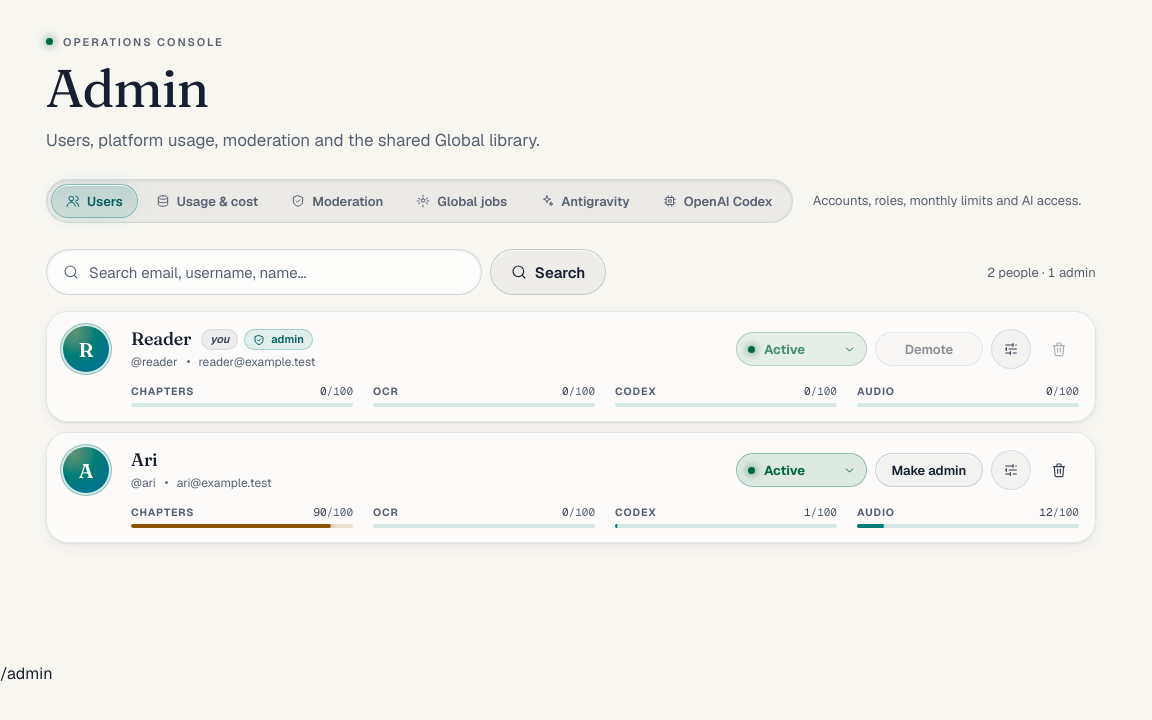
Test: Admin console › changes status at once but asks before a ban
This screenshot has width=1152, height=720.
Select "suspended" in the dropdown named "Account status for @ari" at x=801, y=470, box x1=736 y1=453 x2=867 y2=487
Select "banned" in the dropdown named "Account status for @ari" at x=801, y=470, box x1=736 y1=453 x2=867 y2=487
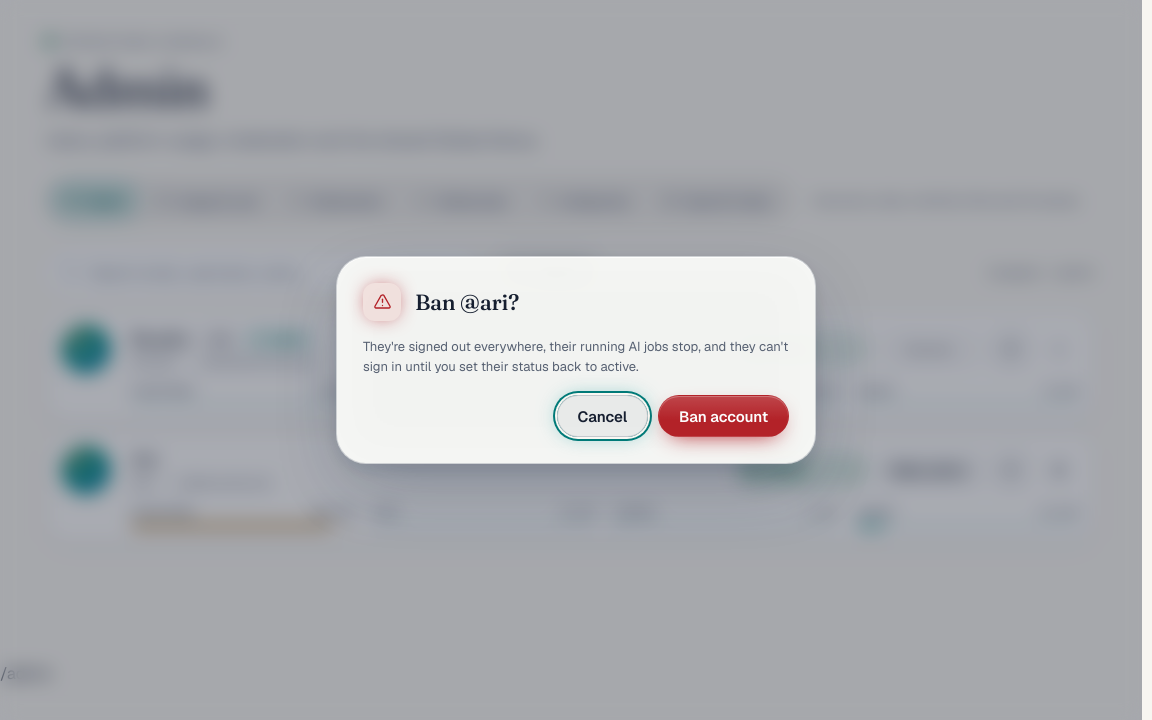
Expected: the dialog "Ban @ari?" shows "can't sign in", x1=363 y1=338 x2=788 y2=375
Click the button "Cancel".
click(602, 416)  # box x1=556 y1=395 x2=648 y2=437
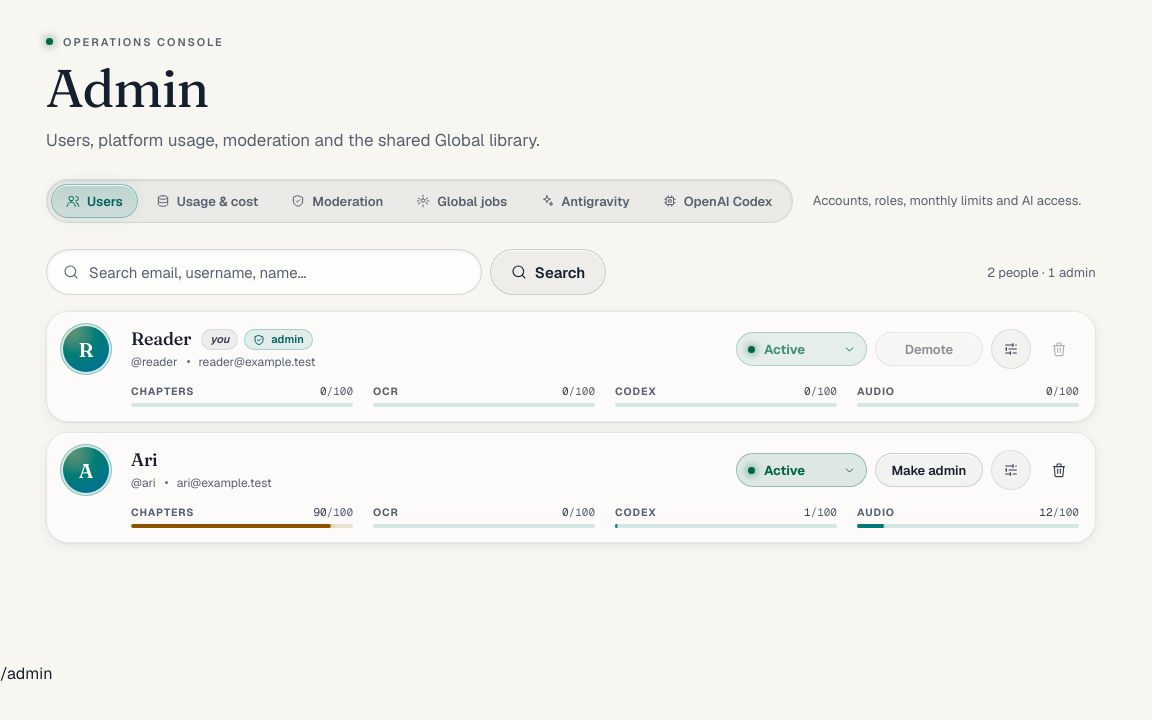
Expected: the dialog is gone
Select "banned" in the dropdown named "Account status for @ari" at x=801, y=470, box x1=736 y1=453 x2=867 y2=487
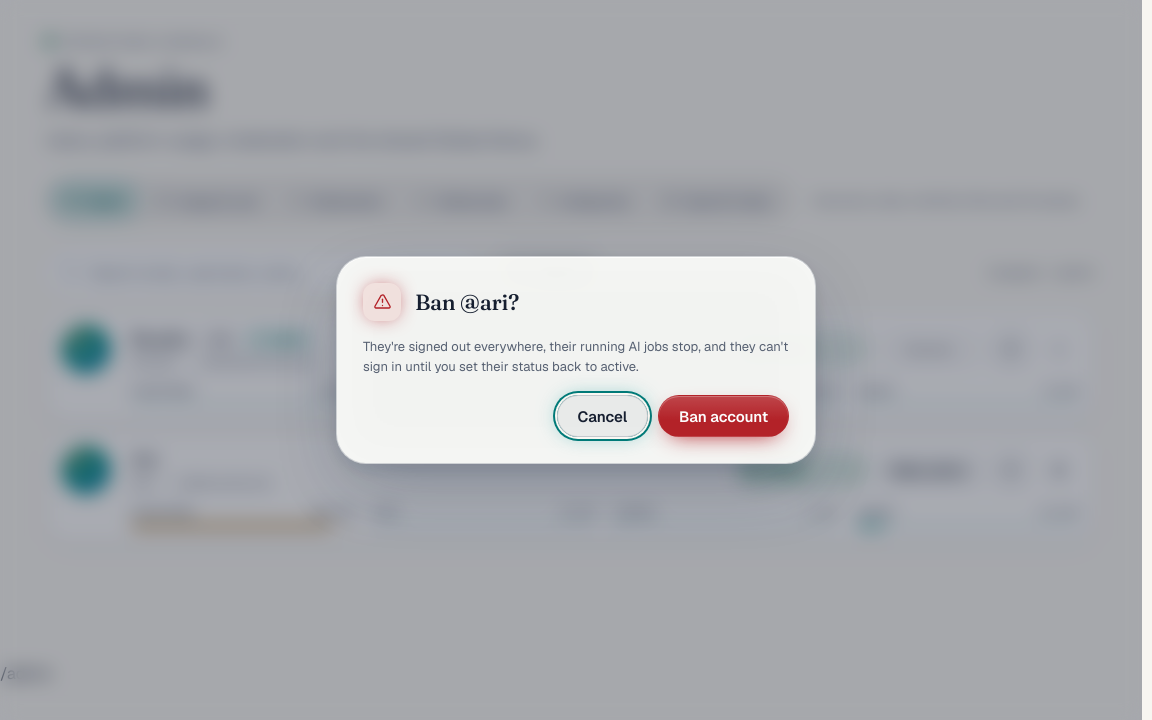
Click the button "Ban account".
click(724, 416)  # box x1=658 y1=395 x2=789 y2=437
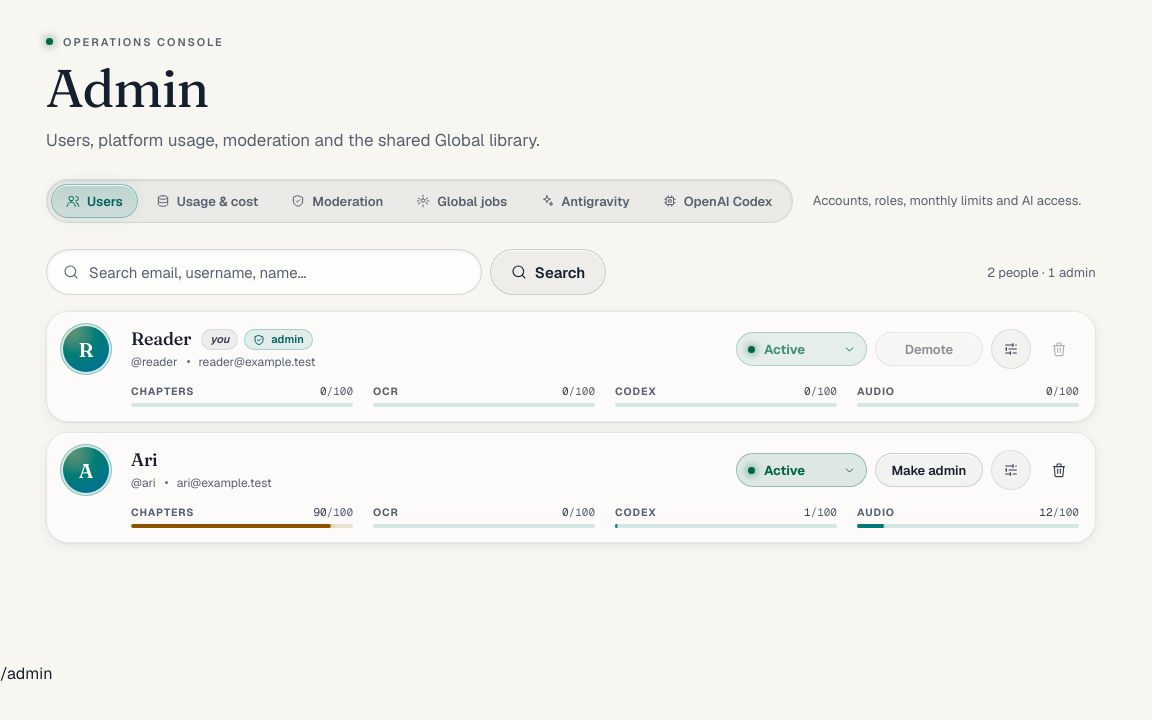
Expected: the dialog is gone
